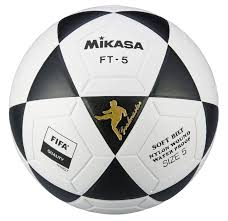football ball: (5, 3, 221, 217)
